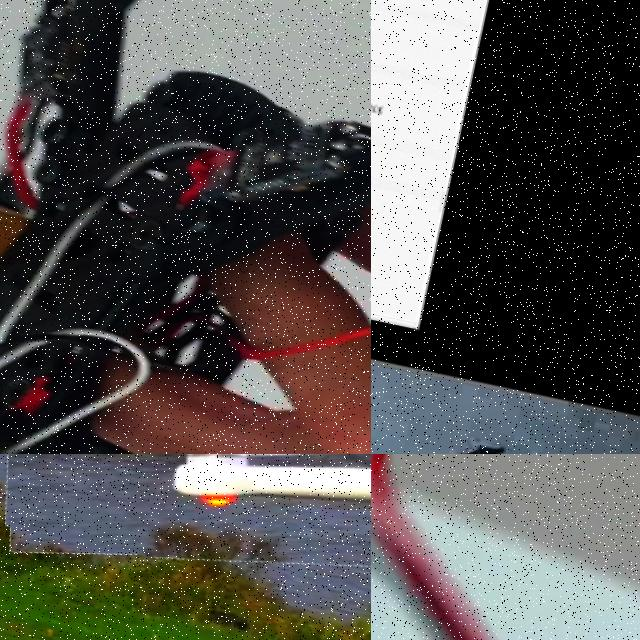drone: (0, 0, 371, 454), (0, 454, 371, 631), (371, 454, 640, 640)
